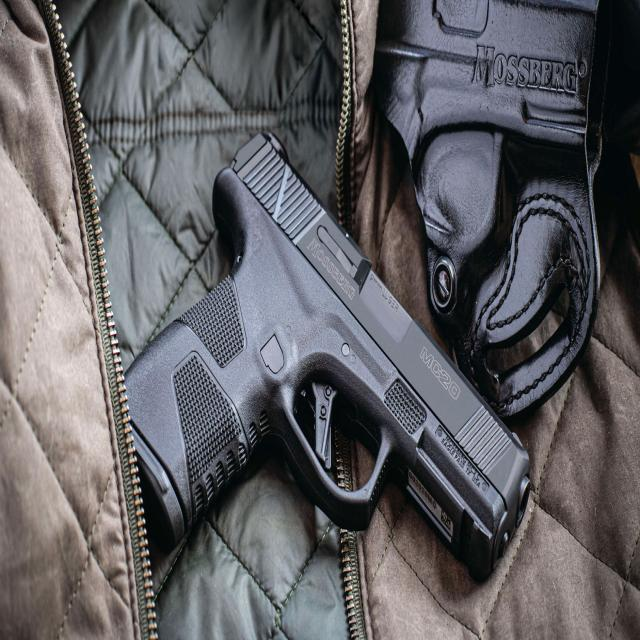HandGun: (125, 135, 532, 585)
